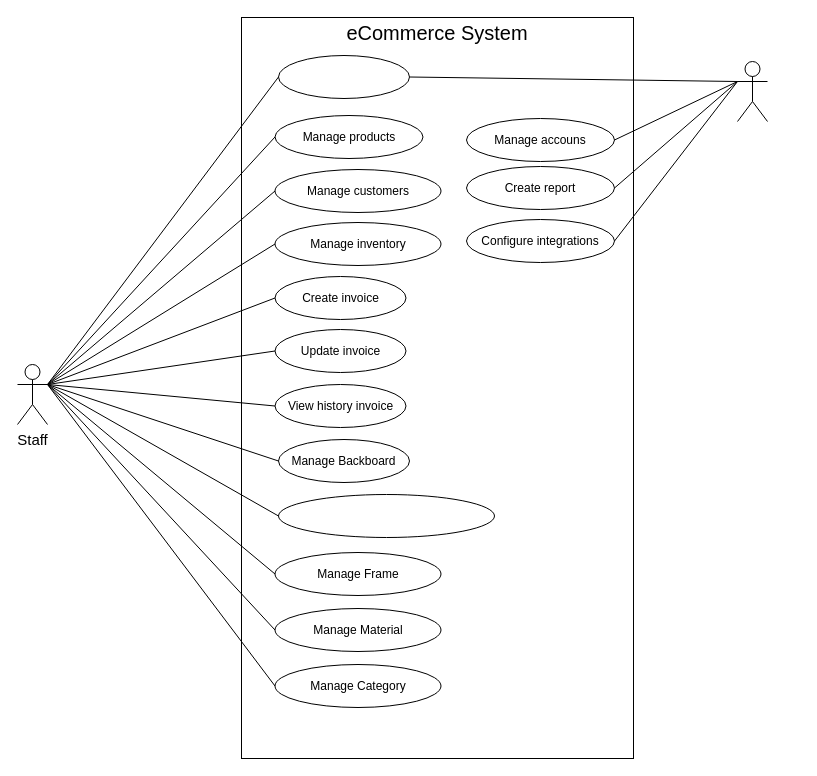
The diagram is 817 pixels wide and 776 high, and some of its shapes have lost their labels. Each missing label, with the centre of its shape:
"Authenticate" goes at point (344, 76).
"Manage Sub-Backboard" goes at point (386, 516).
"System admin" goes at point (752, 91).
